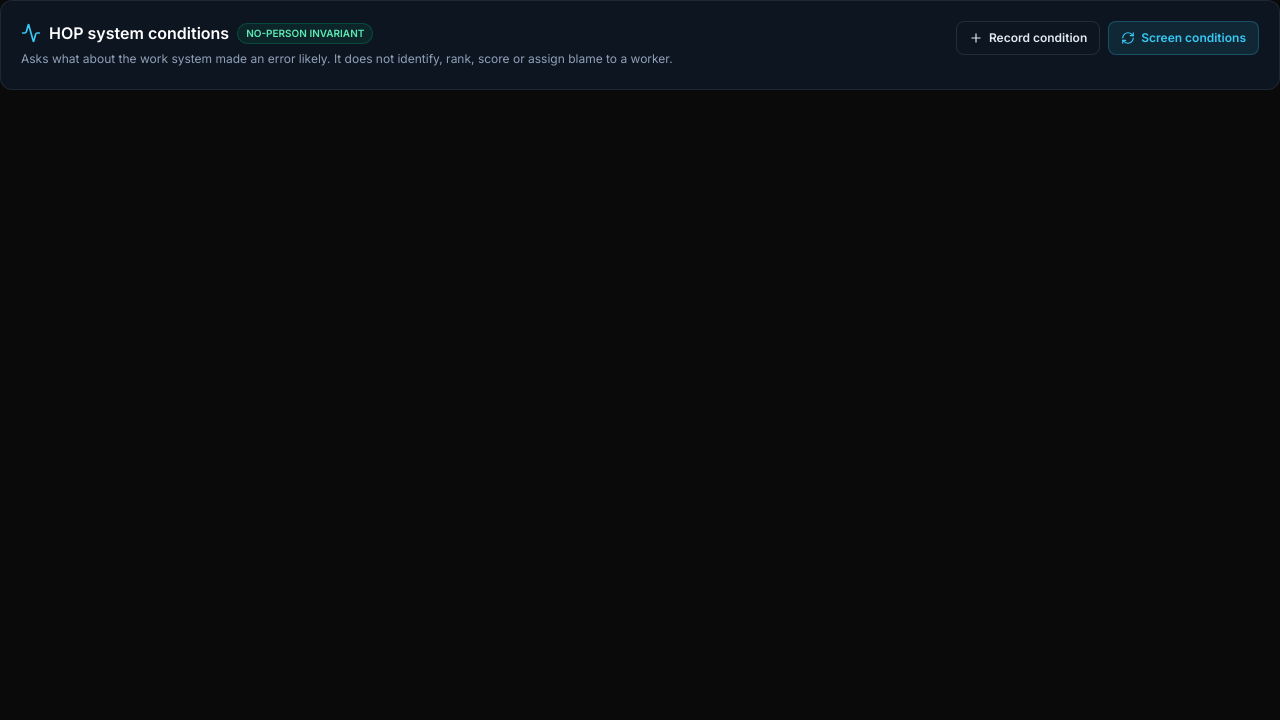
HOP system-condition surface › states the non-surveillance boundary and exposes all nine categories
The width and height of the screenshot is (1280, 720).
Expected: the text "does not identify, rank, score" is shown, [21,51,673,66]
Click the button "Record condition" at (1028, 38), box [956,21,1100,55]
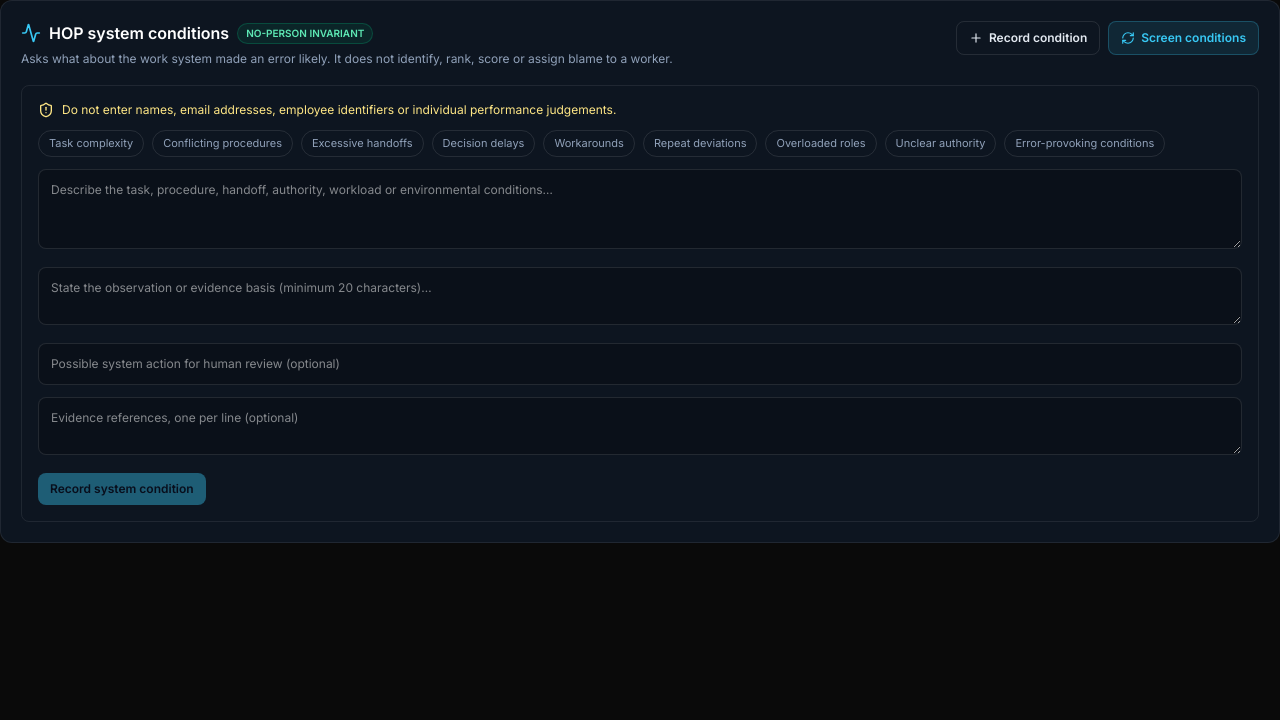
Now the button "Task complexity" is shown, box [38,130,144,156]
Now the button "Conflicting procedures" is shown, box [152,130,293,156]
Now the button "Excessive handoffs" is shown, box [301,130,424,156]
